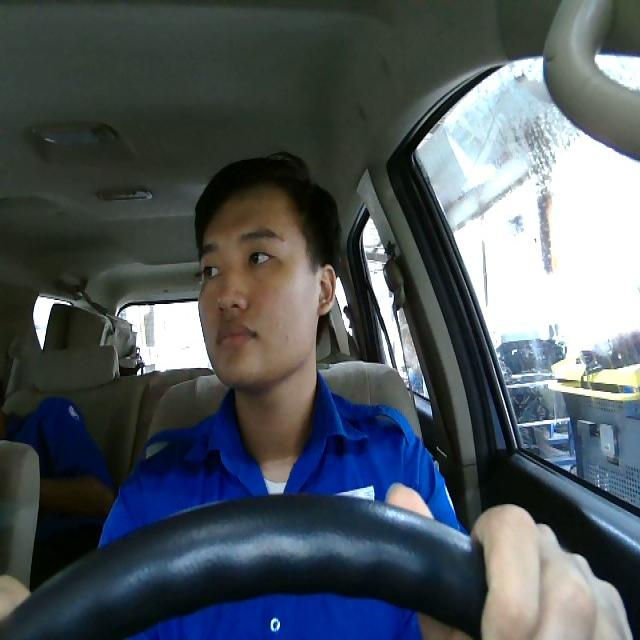seeing_left: (196, 179, 336, 392)
